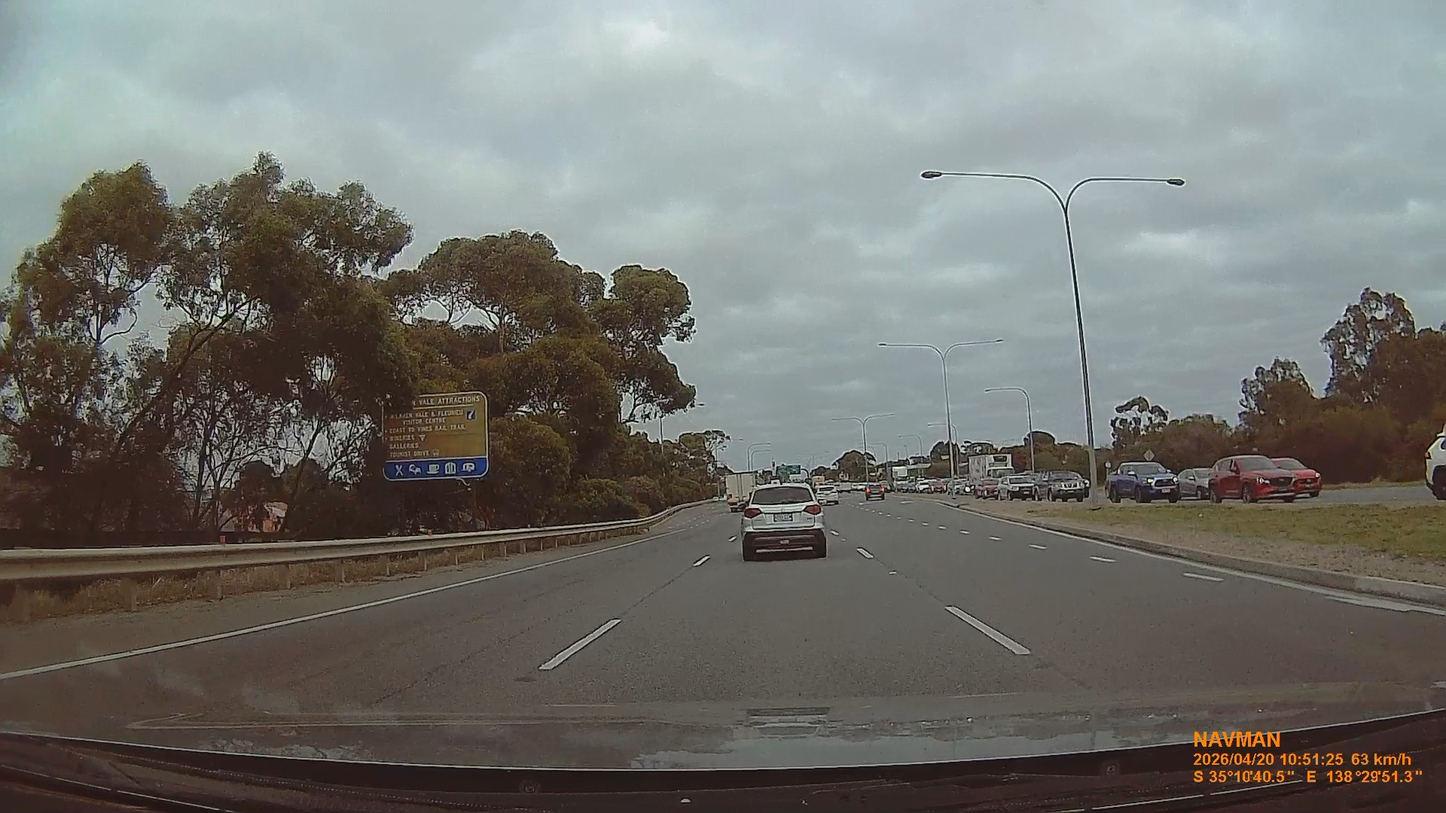road barriers: (2, 507, 679, 589)
